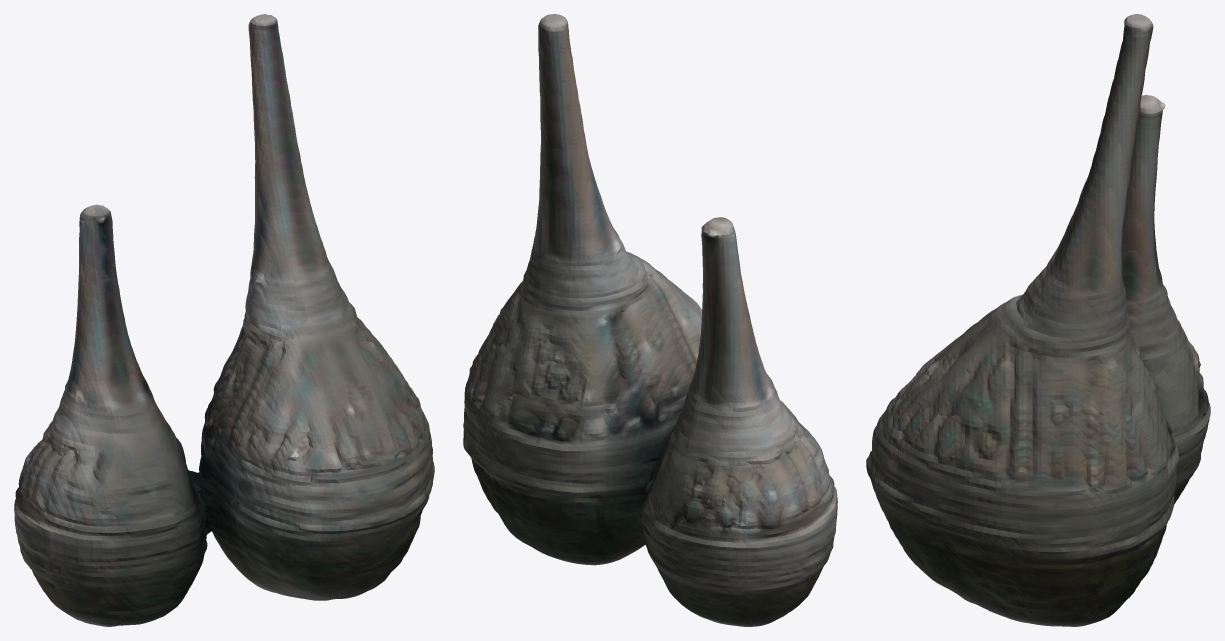
File: pecas-decorativas.glb
3 views of the same model, side by side, from view 1: azimuth 30°, elevation 25°; view 2: azimuth 150°, elevation 25°; view 3: azimuth 270°, elevation 25° (orthographic). The views are drawn at different scales.
Parts seen in each view (by area): view 1: geometry_0; view 2: geometry_0; view 3: geometry_0.
Boxes of the visible parts, box(x1,y1,x2,y2) form: geometry_0: box(14, 14, 434, 626); geometry_0: box(463, 14, 837, 626); geometry_0: box(866, 14, 1210, 626).
Size of the model in its own units: 0.6923 by 0.9913 by 0.5218.
